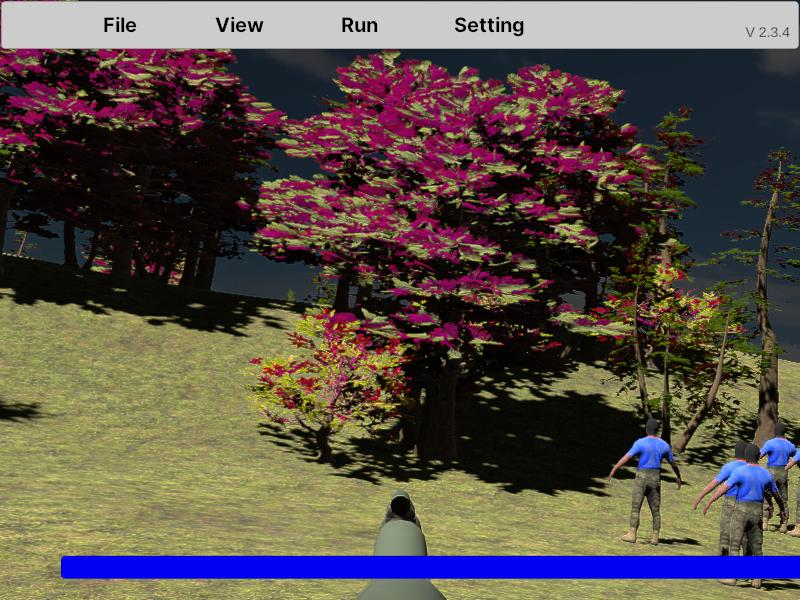Human: (703, 441, 786, 588), (608, 417, 682, 546), (746, 422, 800, 537), (784, 420, 800, 537)
